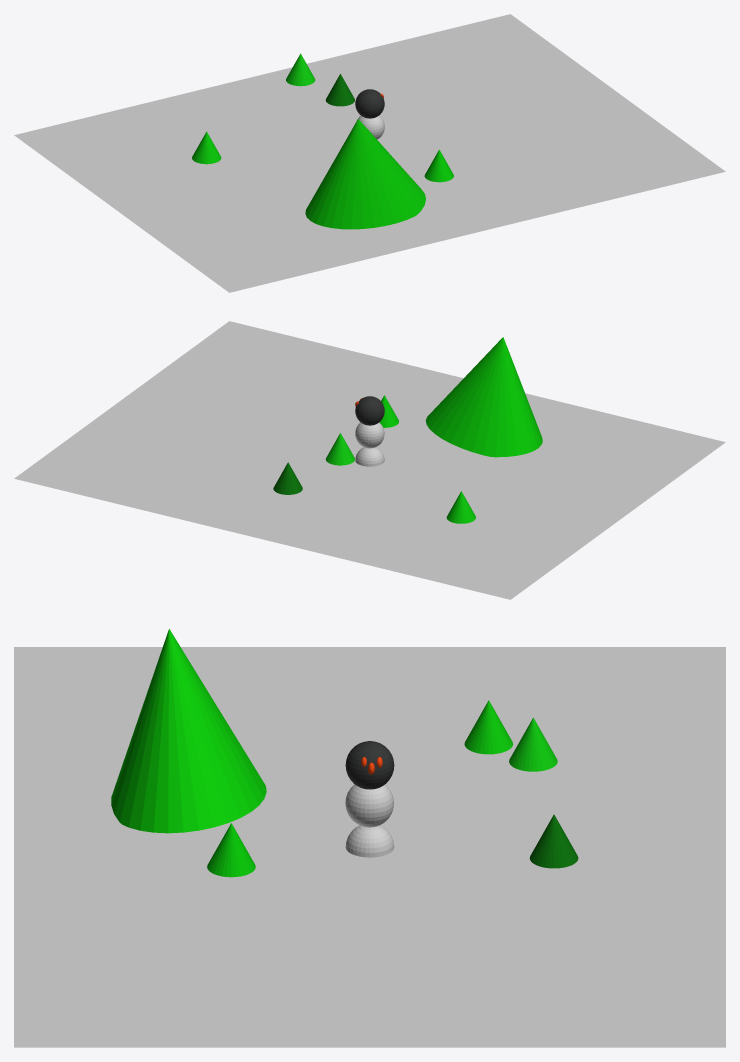
File: check.obj
3 renders of one model, top to bottom at view 1: azimuth 30°, elevation 25°; view 2: azimuth 150°, elevation 25°; view 3: azimuth 270°, elevation 25°, orthographic. The views are drawn at different scales.
Visible parts, largest first — view 1: Plane, Cone.002, Sphere.002, Cone.003, Cone.001, Cone.004, Cone; view 2: Plane, Cone.002, Sphere.002, Sphere.001, Cone, Cone.001, Cone.004, Sphere; view 3: Plane, Cone.002, Sphere.002, Sphere.001, Cone, Cone.003, Cone.004, Cone.001, Sphere.
Part boxes in pixels (<box>): Plane: <box>14,14,725,292</box>; Cone.002: <box>305,119,425,229</box>; Sphere.002: <box>355,89,384,118</box>; Cone.003: <box>424,149,453,182</box>; Cone.001: <box>192,131,221,164</box>; Cone.004: <box>325,74,354,106</box>; Cone: <box>286,53,315,86</box>; Plane: <box>14,321,725,599</box>; Cone.002: <box>425,337,542,457</box>; Sphere.002: <box>355,396,384,425</box>; Sphere.001: <box>355,422,384,448</box>; Cone: <box>325,433,354,465</box>; Cone.001: <box>446,491,475,523</box>; Cone.004: <box>273,462,302,494</box>; Sphere: <box>355,447,384,466</box>; Plane: <box>14,647,725,1047</box>; Cone.002: <box>111,629,266,833</box>; Sphere.002: <box>345,741,394,789</box>; Sphere.001: <box>345,784,393,827</box>; Cone: <box>509,717,557,771</box>; Cone.003: <box>207,823,255,877</box>; Cone.004: <box>529,814,578,868</box>; Cone.001: <box>464,700,512,754</box>; Sphere: <box>345,825,394,857</box>.
Bounding box in the file's own units: 38.92 × 8.26 × 29.24.
